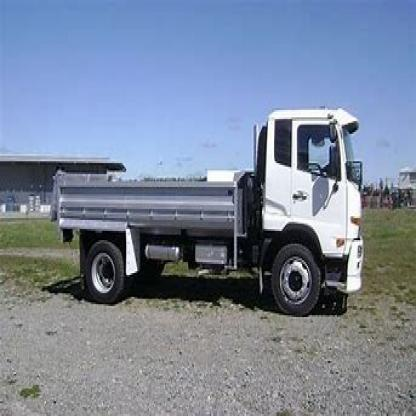dump_truck: (41, 70, 374, 341)
